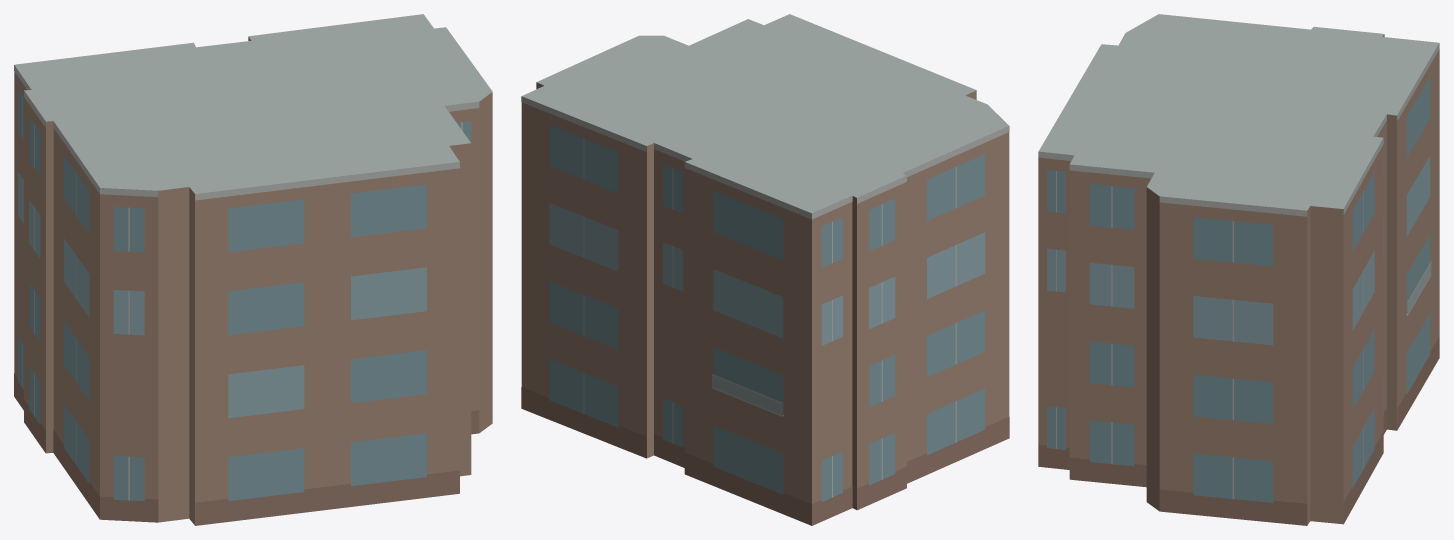
Rendered from survey-upis-32665401.glb.
3 renders of one model, left to right at view 1: azimuth 30°, elevation 25°; view 2: azimuth 150°, elevation 25°; view 3: azimuth 270°, elevation 25°, orthographic. The views are drawn at different scales.
Visible parts, largest first — view 1: survey-upis-32665401.tmp; view 2: survey-upis-32665401.tmp; view 3: survey-upis-32665401.tmp.
Boxes of the visible parts, bbox=[...] form: survey-upis-32665401.tmp: bbox=[14, 14, 492, 525]; survey-upis-32665401.tmp: bbox=[521, 14, 1009, 525]; survey-upis-32665401.tmp: bbox=[1038, 14, 1439, 525].
Size of the model in its own units: 16.94 by 12.65 by 14.6.
